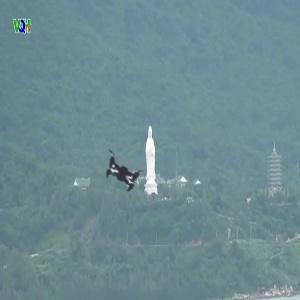drone: (79, 126, 171, 218)
